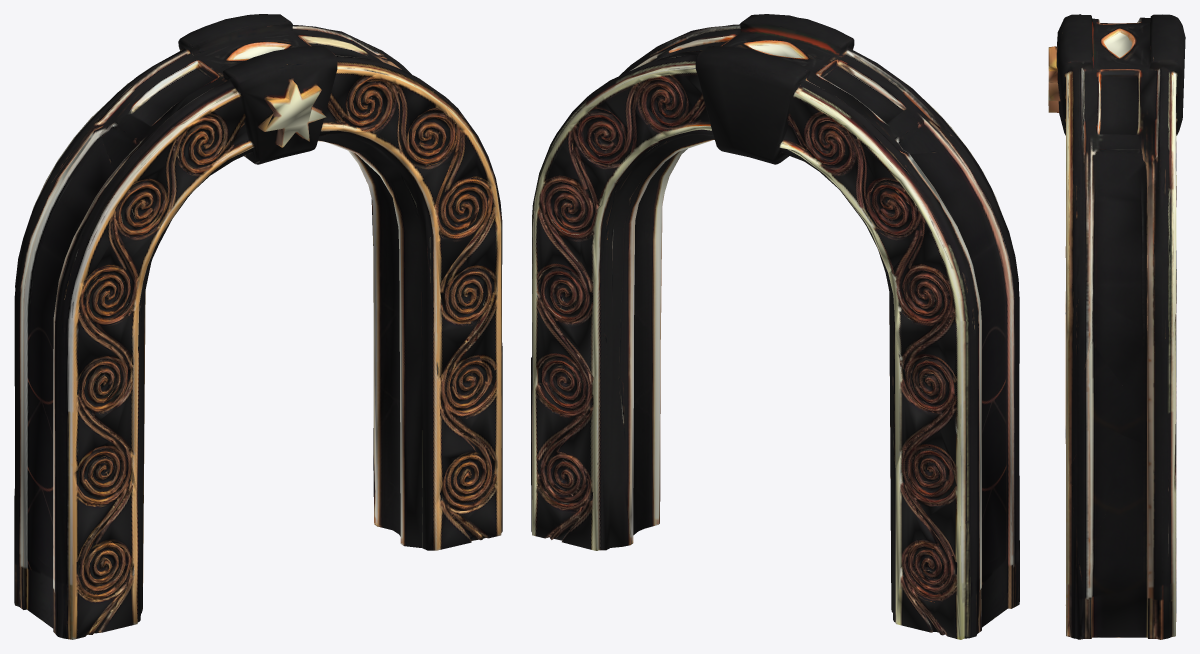
Rendered from arco.glb.
3 renders of one model, left to right at view 1: azimuth 30°, elevation 25°; view 2: azimuth 150°, elevation 25°; view 3: azimuth 270°, elevation 25°, orthographic. The views are drawn at different scales.
Parts seen in each view (by area): view 1: Mesh1.0; view 2: Mesh1.0; view 3: Mesh1.0.
Boxes of the visible parts, bbox=[...] form: Mesh1.0: bbox=[14, 14, 502, 639]; Mesh1.0: bbox=[531, 14, 1019, 639]; Mesh1.0: bbox=[1048, 14, 1185, 639].
Size of the model in its own units: 1.68 by 1.9 by 0.4672.
1 material, 1 textured.
